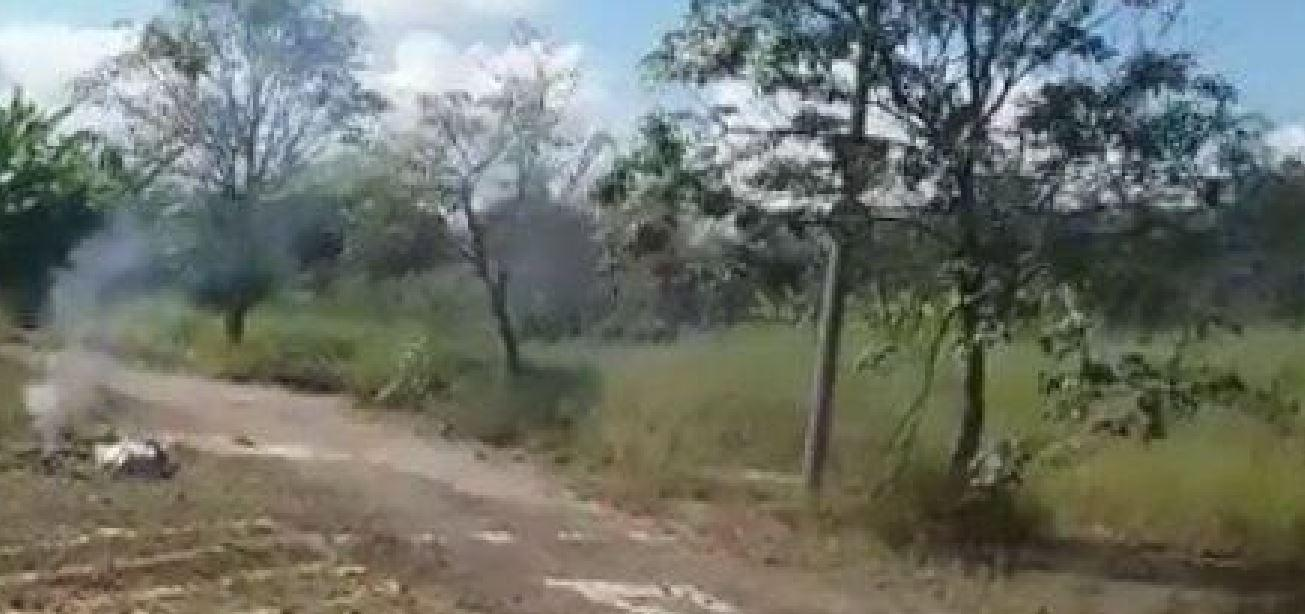smoke: (33, 298, 115, 440)
